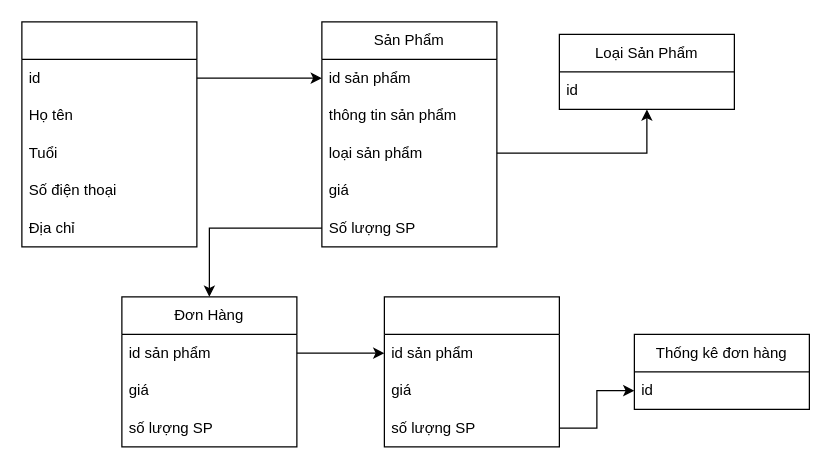
Image size: 831x469. Some labels were removed from this diagram. Here are the shapes that lost their labels. From the top down, the box of each, then its label:
(21, 21, 197, 247): User
(383, 296, 559, 447): Chi tiết đơn hàng
